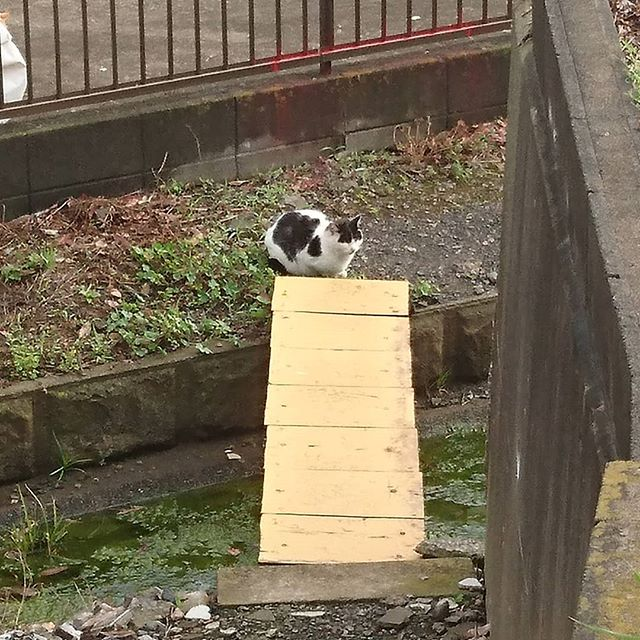animal: (249, 192, 375, 286)
bridge: (232, 250, 435, 567)
